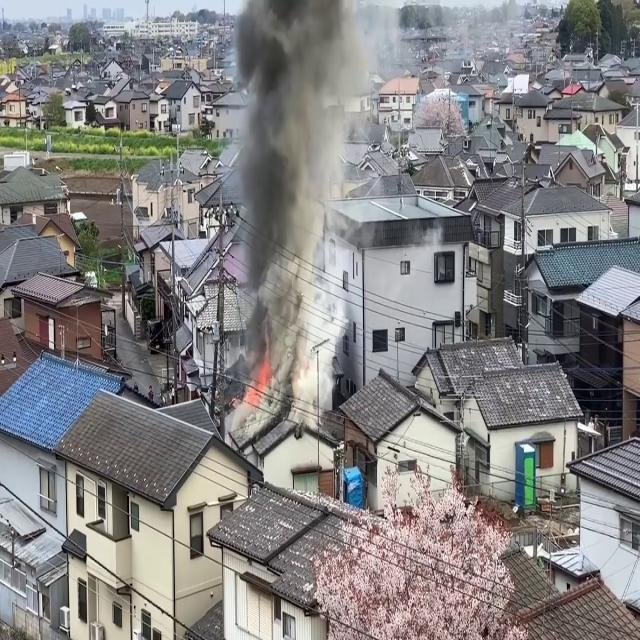Fire: (233, 362, 275, 416)
Smoke: (223, 0, 365, 404)
